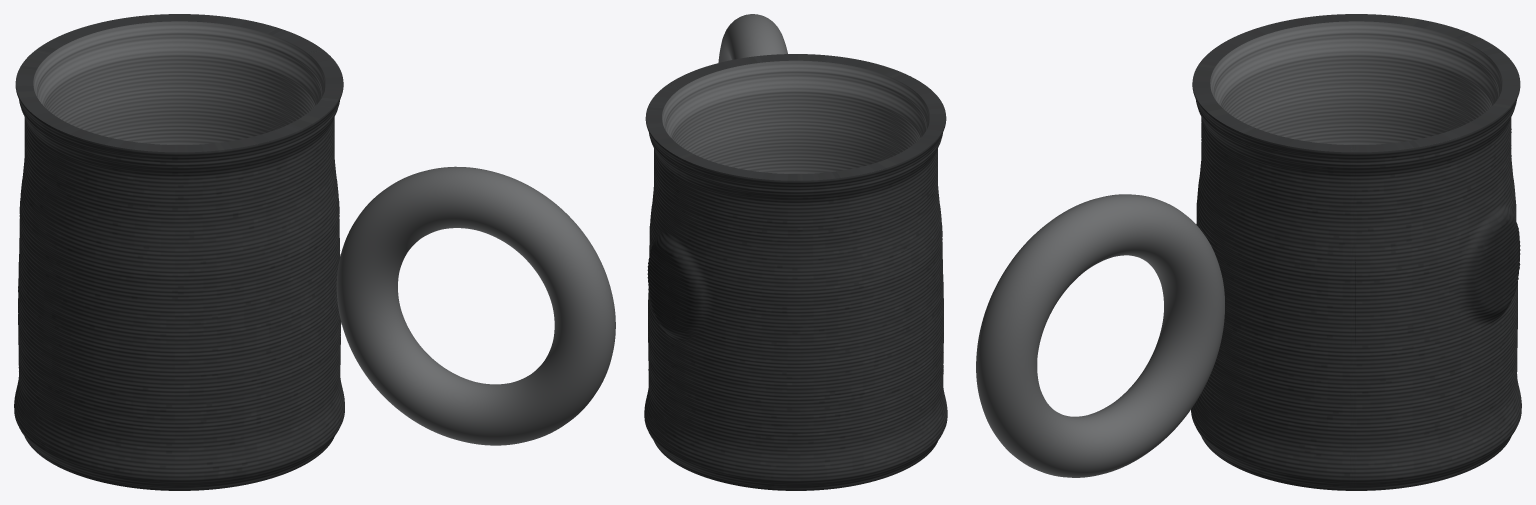
Rendered from cup-asphalt.glb.
3 views of the same model, side by side, from view 1: azimuth 30°, elevation 25°; view 2: azimuth 150°, elevation 25°; view 3: azimuth 270°, elevation 25° (orthographic). The views are drawn at different scales.
Visible parts, largest first — view 1: outer-wall, handle, inner-wall, rim-cap; view 2: outer-wall, inner-wall, rim-cap, handle; view 3: outer-wall, handle, inner-wall, rim-cap.
Part boxes in pixels (x1=…): outer-wall: x1=14, y1=52, x2=344, y2=490; handle: x1=336, y1=166, x2=615, y2=445; inner-wall: x1=33, y1=21, x2=325, y2=152; rim-cap: x1=15, y1=14, x2=343, y2=152; outer-wall: x1=644, y1=76, x2=947, y2=490; inner-wall: x1=662, y1=60, x2=929, y2=180; rim-cap: x1=646, y1=54, x2=945, y2=180; handle: x1=718, y1=14, x2=787, y2=62; outer-wall: x1=1191, y1=58, x2=1521, y2=490; handle: x1=976, y1=194, x2=1224, y2=477; inner-wall: x1=1210, y1=21, x2=1502, y2=152; rim-cap: x1=1192, y1=14, x2=1520, y2=152.
Bounding box in the file's own units: 0.1057 × 0.086 × 0.1248.
Materials: 2 (1 with a texture image).
